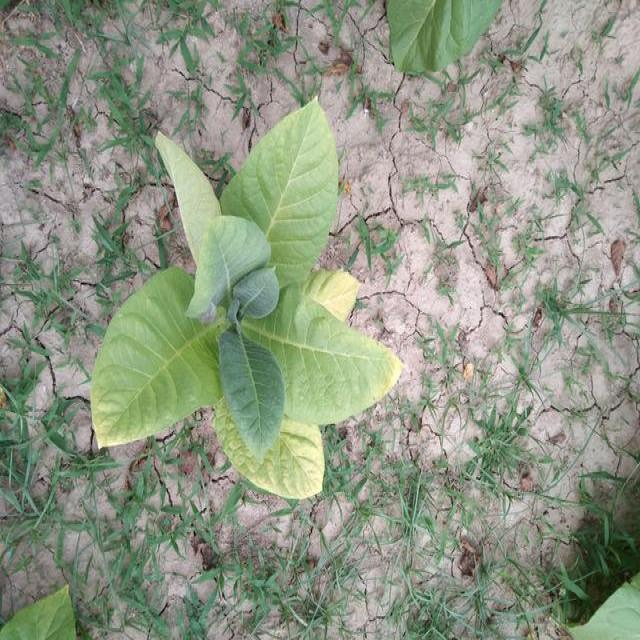crop: (83, 91, 410, 497)
